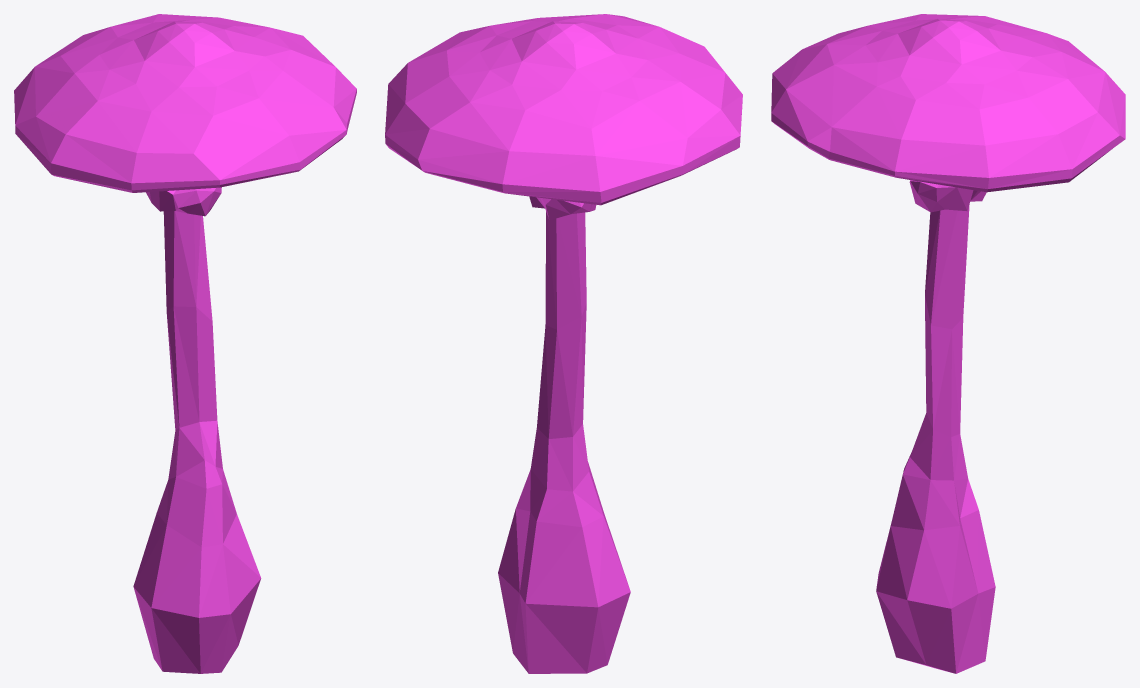
File: SM_Mushroom_Slim_Medium_B_Fantasy.fbx
3 views of the same model, side by side, from view 1: azimuth 30°, elevation 25°; view 2: azimuth 150°, elevation 25°; view 3: azimuth 270°, elevation 25° (orthographic).
Parts seen in each view (by area): view 1: SM_Mushroom_Slim_Medium_B_Fantasy; view 2: SM_Mushroom_Slim_Medium_B_Fantasy; view 3: SM_Mushroom_Slim_Medium_B_Fantasy.
Boxes of the visible parts, box(x1,y1,x2,y2) form: SM_Mushroom_Slim_Medium_B_Fantasy: box(14, 14, 356, 673); SM_Mushroom_Slim_Medium_B_Fantasy: box(385, 14, 742, 673); SM_Mushroom_Slim_Medium_B_Fantasy: box(771, 14, 1125, 673).
Size of the model in its own units: 0.7801 by 1.55 by 0.7778.
